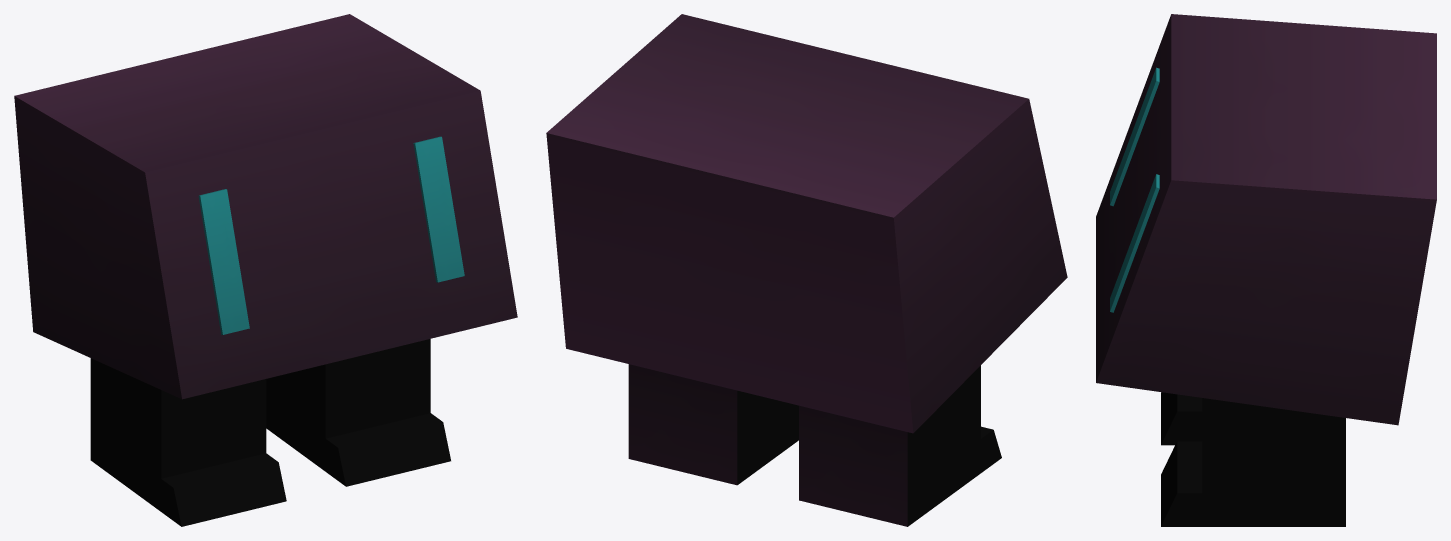
The model's file is mirrorMan.fbx.
3 renders of one model, left to right at view 1: azimuth 30°, elevation 25°; view 2: azimuth 150°, elevation 25°; view 3: azimuth 270°, elevation 25°, orthographic. The views are drawn at different scales.
Parts seen in each view (by area): view 1: polySurface7; view 2: polySurface7; view 3: polySurface7.
Boxes of the visible parts, x1=… form: polySurface7: x1=14, y1=14, x2=517, y2=526; polySurface7: x1=546, y1=14, x2=1067, y2=526; polySurface7: x1=1096, y1=14, x2=1436, y2=526.
Bounding box in the file's own units: 1 × 1.02 × 0.8667.
1 material, 1 textured.
